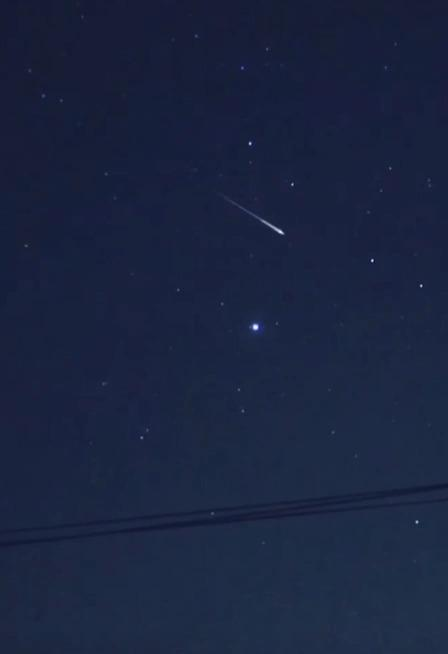meteorite: (206, 183, 290, 242)
